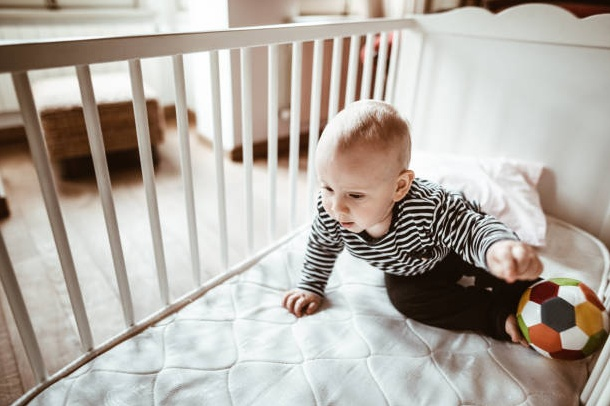baby: (283, 100, 541, 344)
crib: (0, 5, 609, 404)
